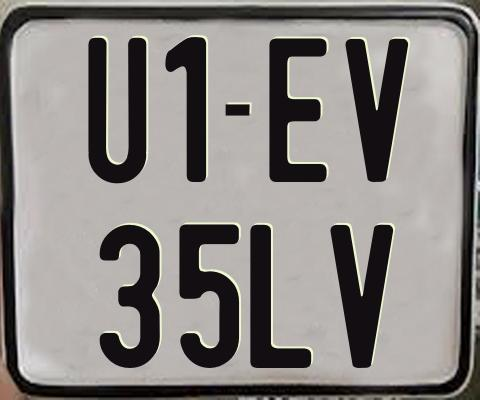1: (162, 34, 205, 182)
3: (98, 224, 162, 371)
5: (177, 223, 238, 371)
E: (267, 35, 327, 184)
L: (249, 225, 311, 374)
U: (86, 37, 145, 188)
V: (343, 36, 412, 182), (330, 222, 395, 371)
